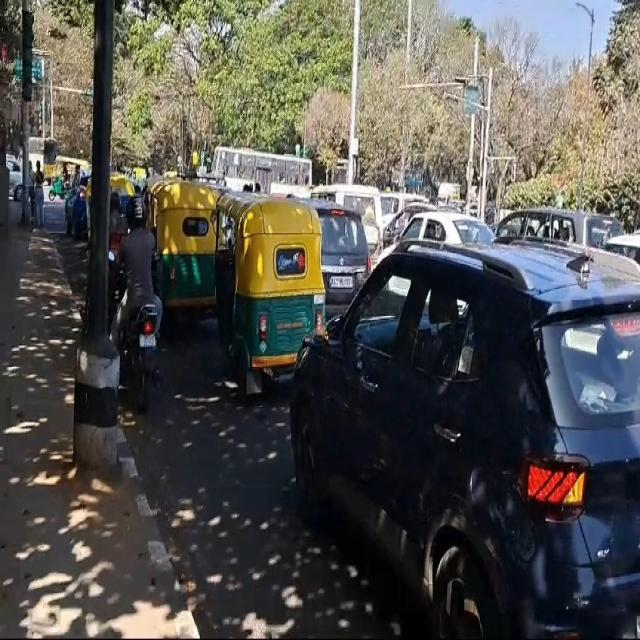cars: (289, 246, 640, 640), (500, 206, 631, 262), (313, 203, 372, 316), (398, 216, 500, 256)
